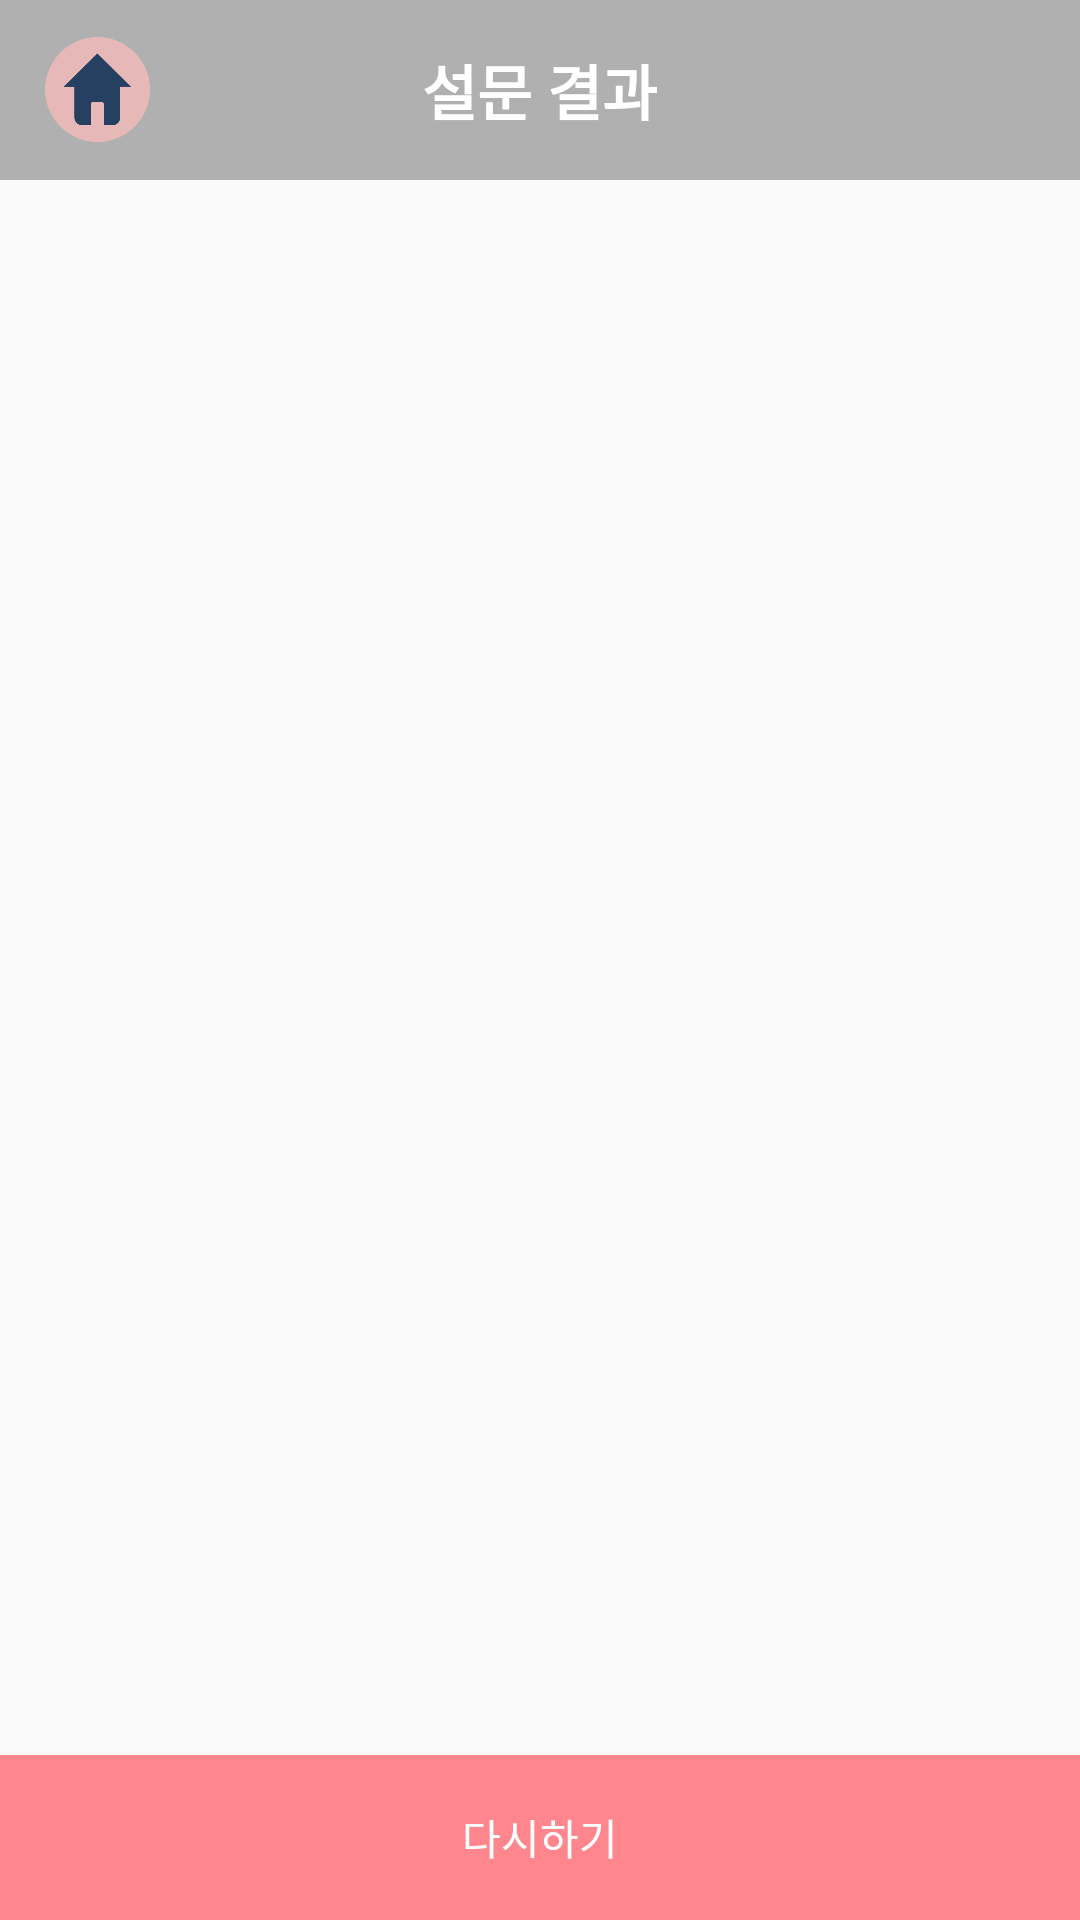

Icon click points for this 1080×1920 phone screenshot, format (x=x, y=y):
homebutton: (x=97, y=89)
